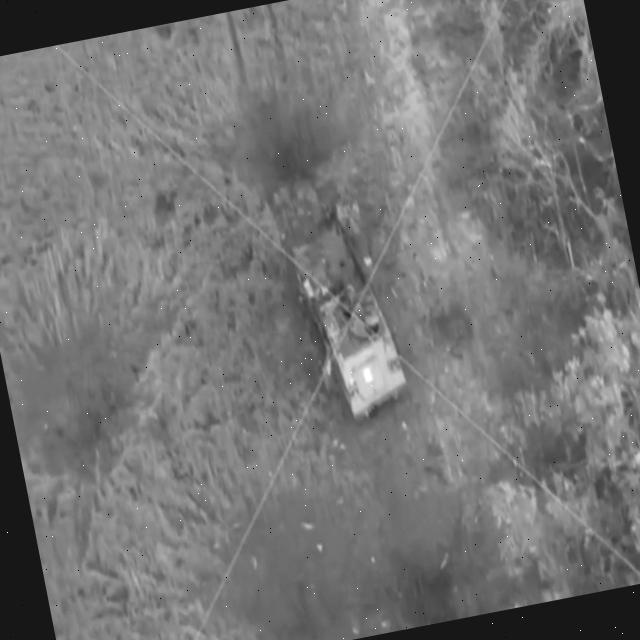APC: (284, 204, 416, 436)
